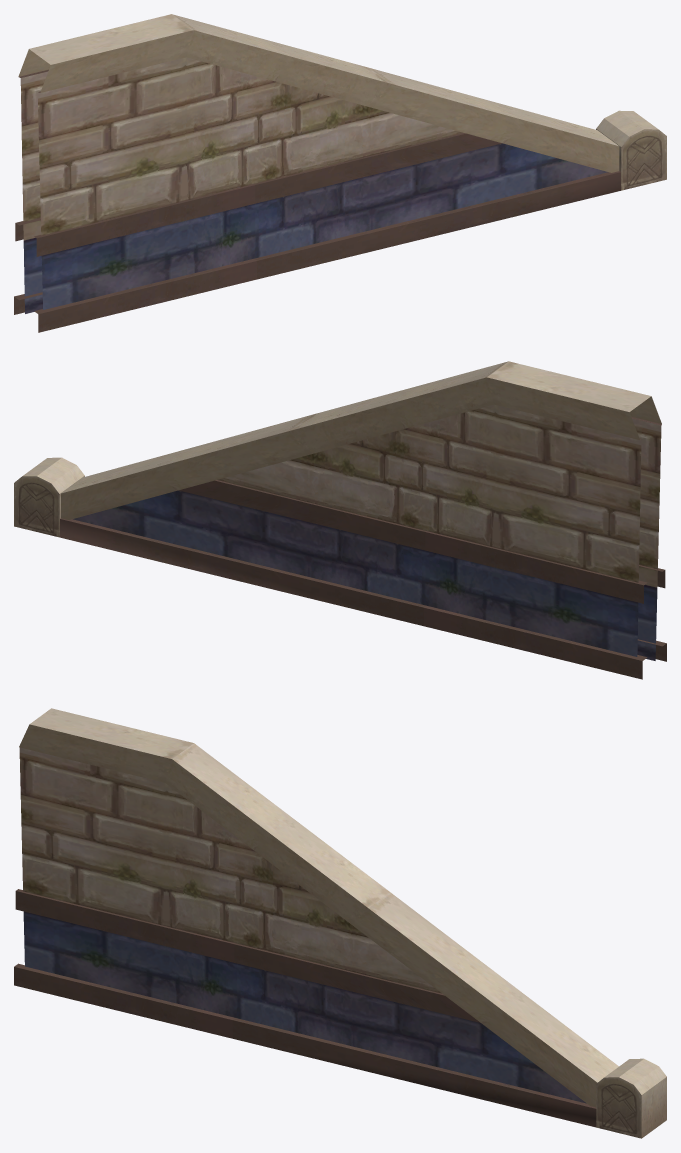
Rendered from cs_lobbynew02_Terrains_02_lt03.FBX.
3 views of the same model, one above another, from view 1: azimuth 30°, elevation 25°; view 2: azimuth 150°, elevation 25°; view 3: azimuth 330°, elevation 25° (orthographic).
Visible parts, largest first — view 1: cs_lobbynew02_Terrains_02_lt03; view 2: cs_lobbynew02_Terrains_02_lt03; view 3: cs_lobbynew02_Terrains_02_lt03.
Boxes of the visible parts, box(x1,y1,x2,y2) form: cs_lobbynew02_Terrains_02_lt03: box(14, 14, 666, 332); cs_lobbynew02_Terrains_02_lt03: box(14, 361, 666, 679); cs_lobbynew02_Terrains_02_lt03: box(14, 708, 666, 1138).
Size of the model in its own units: 612 by 245 by 42.73.
